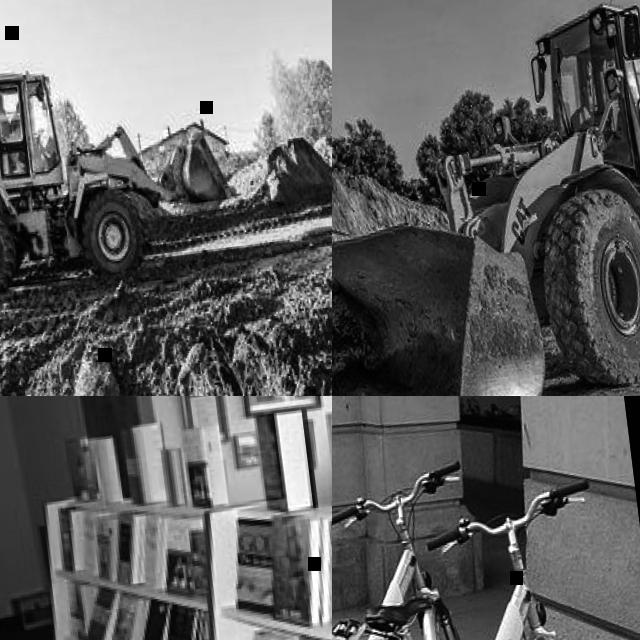machinery: (332, 0, 640, 396), (0, 35, 247, 310)
